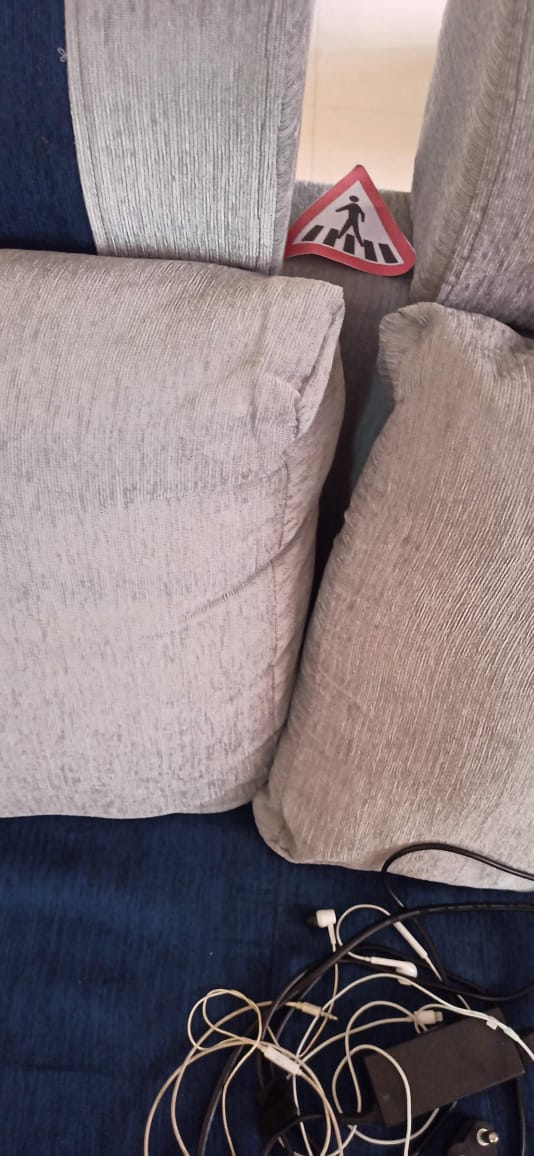PEDESTRIAN CROSSING: (270, 159, 432, 281)
